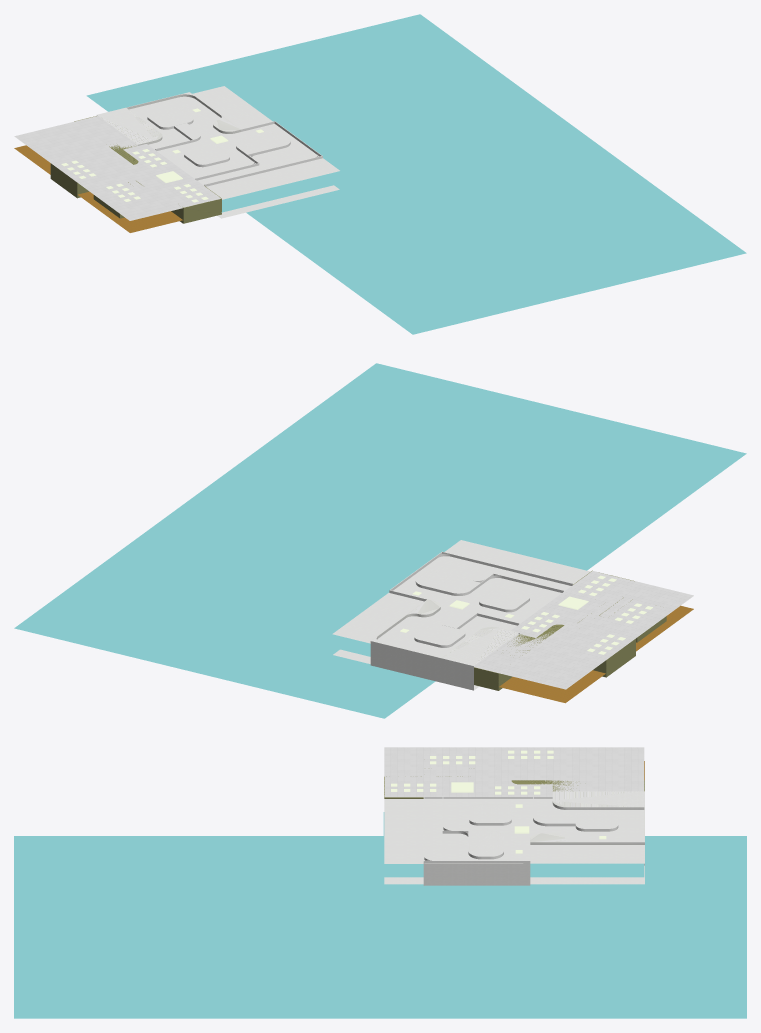
Rendered from backroom6.glb.
The picture shows the model from 3 angles, top to bottom: view 1: azimuth 30°, elevation 25°; view 2: azimuth 150°, elevation 25°; view 3: azimuth 270°, elevation 25°; orthographic projection. The views are drawn at different scales.
Visible parts, largest first — view 1: Plane.002, Plane.004, Plane.003, Cube, Plane.006, Plane, Cube.033, Plane.001, Cube.025, Cube.039, Cube.019; view 2: Plane.002, Plane.004, Plane.003, Cube, Plane, Cube.033, Cube.046, Cube.025, Cube.039; view 3: Plane.002, Plane.003, Plane.004, Cube.041, Cube, Plane.006, Plane.001, Cube.033, Cube.039, Cube.025.
Boxes of the visible parts, bbox=[...] form: Plane.002: bbox=[86, 14, 746, 334]; Plane.004: bbox=[14, 116, 221, 220]; Plane.003: bbox=[129, 86, 339, 199]; Cube: bbox=[96, 92, 240, 145]; Plane.006: bbox=[221, 174, 339, 212]; Plane: bbox=[14, 145, 183, 232]; Cube.033: bbox=[236, 133, 290, 156]; Plane.001: bbox=[217, 185, 339, 218]; Cube.025: bbox=[184, 145, 229, 167]; Cube.039: bbox=[147, 108, 193, 129]; Cube.019: bbox=[183, 198, 221, 223]; Plane.002: bbox=[14, 363, 746, 718]; Plane.004: bbox=[474, 571, 693, 689]; Plane.003: bbox=[332, 540, 590, 657]; Cube: bbox=[370, 599, 519, 690]; Plane: bbox=[499, 605, 693, 703]; Cube.033: bbox=[415, 572, 481, 595]; Cube.046: bbox=[474, 624, 564, 690]; Cube.025: bbox=[479, 588, 529, 612]; Cube.039: bbox=[414, 624, 465, 647]; Plane.002: bbox=[14, 836, 746, 1018]; Plane.003: bbox=[384, 798, 644, 863]; Plane.004: bbox=[384, 747, 644, 797]; Cube.041: bbox=[424, 860, 530, 885]; Cube: bbox=[530, 791, 644, 865]; Plane.006: bbox=[383, 812, 644, 877]; Plane.001: bbox=[384, 865, 644, 884]; Cube.033: bbox=[468, 830, 503, 859]; Cube.039: bbox=[575, 810, 618, 831]; Cube.025: bbox=[469, 804, 511, 825].
Bounding box in the file's own units: 138 × 6.63 × 173.
Materials: 6 (4 with a texture image).
